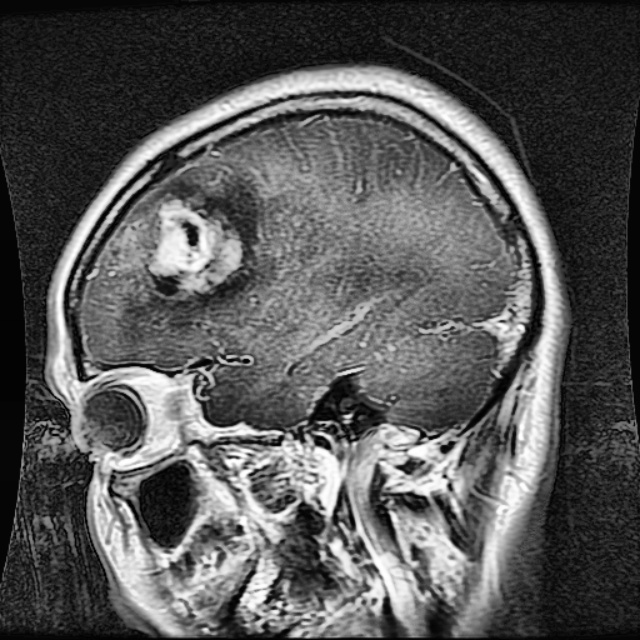Meningioma: (154, 198, 239, 293)
